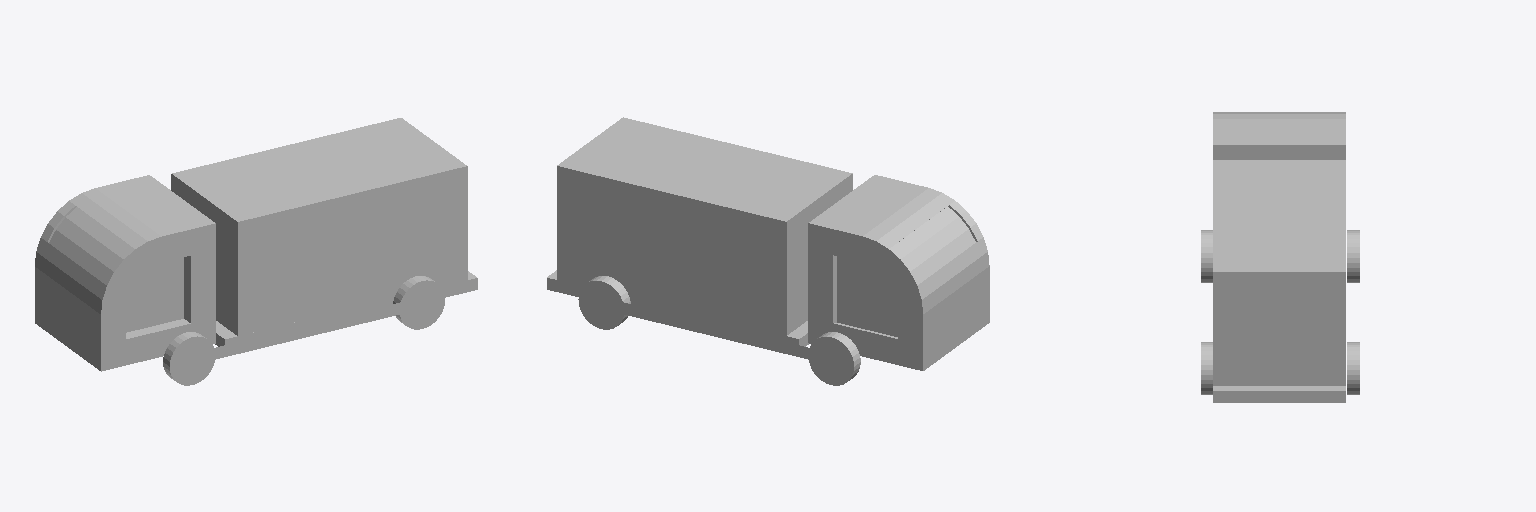
File: Bar.obj
The picture shows the model from 3 angles: view 1: azimuth 30°, elevation 25°; view 2: azimuth 150°, elevation 25°; view 3: azimuth 270°, elevation 25°; orthographic projection.
Visible parts, largest first — view 1: Cube.002_Cube.004; view 2: Cube.002_Cube.004; view 3: Cube.002_Cube.004.
Boxes of the visible parts, box(x1,y1,x2,y2) form: Cube.002_Cube.004: box(35, 118, 477, 385); Cube.002_Cube.004: box(547, 117, 989, 385); Cube.002_Cube.004: box(1201, 112, 1359, 402).
Size of the model in its own units: 1.31 by 0.4986 by 0.4824.